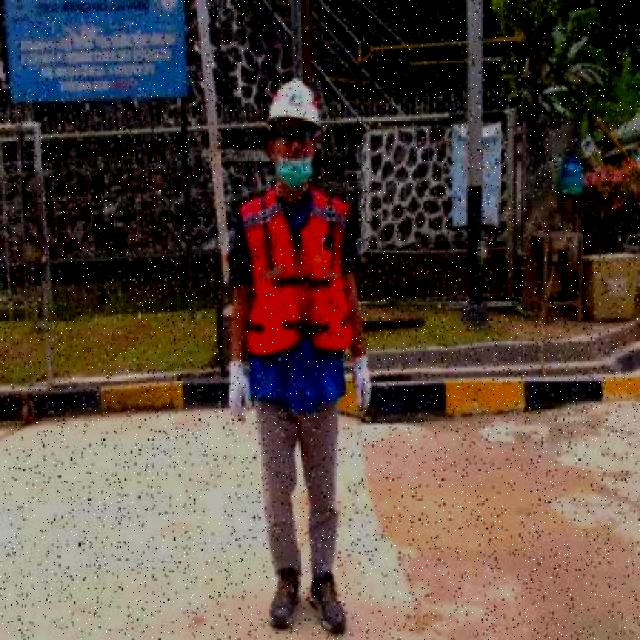Boots: (307, 573, 350, 636), (267, 565, 301, 630)
Gloves: (228, 356, 254, 429), (350, 355, 372, 417)
Helmet: (268, 76, 322, 129)
Mask: (246, 248, 352, 356)
